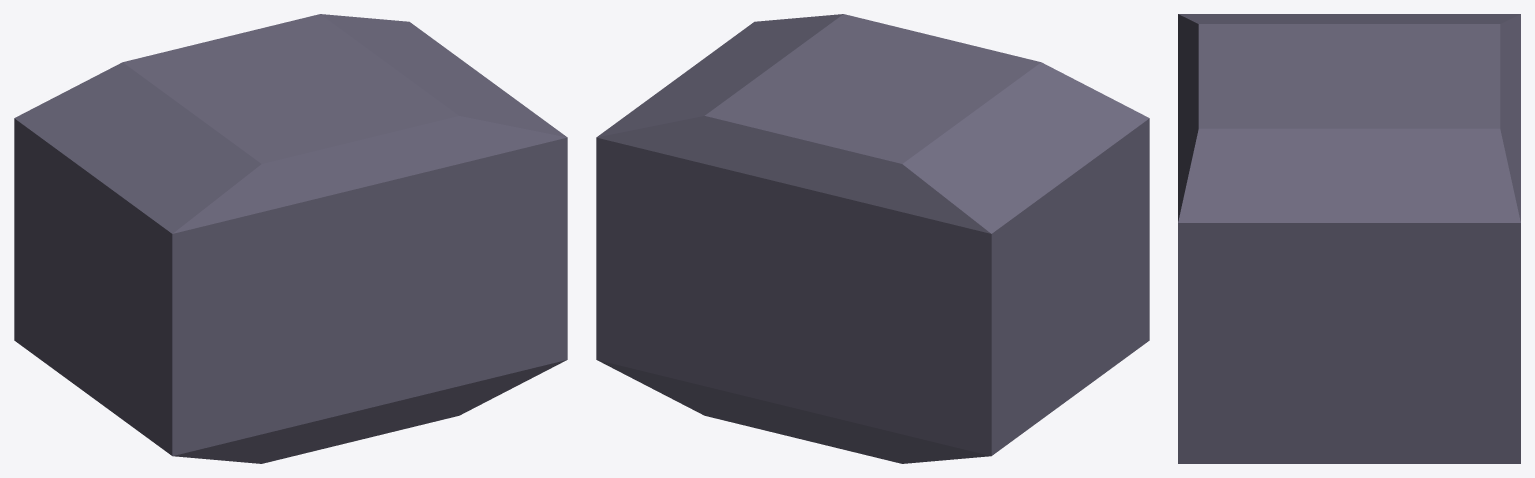
File: 6_Metel.fbx
3 renders of one model, left to right at view 1: azimuth 30°, elevation 25°; view 2: azimuth 150°, elevation 25°; view 3: azimuth 270°, elevation 25°, orthographic. The views are drawn at different scales.
Visible parts, largest first — view 1: pasted__pCube36; view 2: pasted__pCube36; view 3: pasted__pCube36.
Boxes of the visible parts, x1=… form: pasted__pCube36: x1=14, y1=14, x2=567, y2=463; pasted__pCube36: x1=596, y1=14, x2=1149, y2=463; pasted__pCube36: x1=1178, y1=14, x2=1520, y2=463.
Bounding box in the file's own units: 1.17 × 0.8511 × 0.8135.
